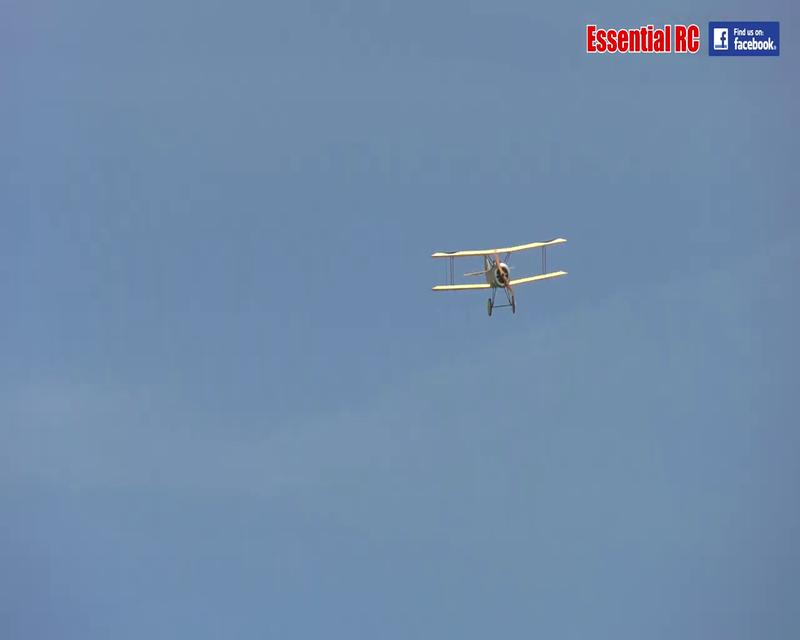UAV: (429, 236, 568, 317)
